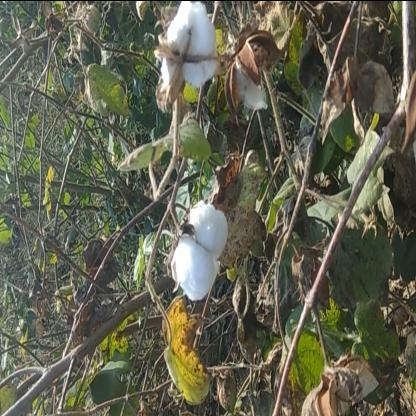cotton_ready: (176, 186, 237, 307), (160, 0, 229, 100)
